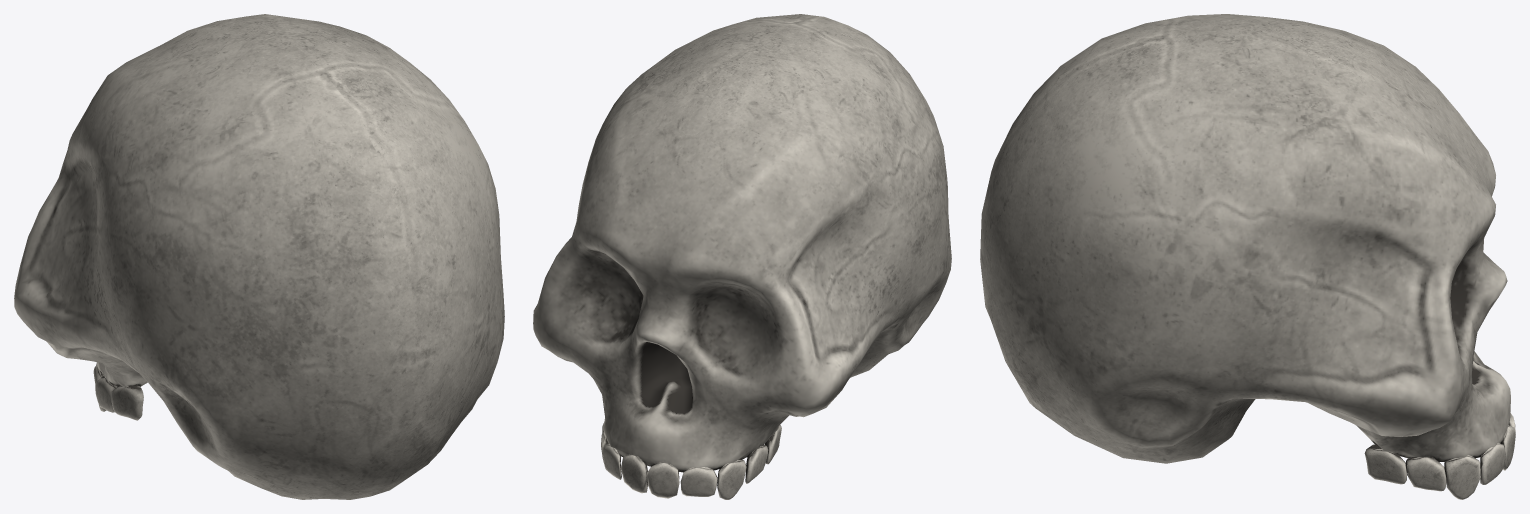
Rendered from skull.fbx.
The picture shows the model from 3 angles, left to right: view 1: azimuth 30°, elevation 25°; view 2: azimuth 150°, elevation 25°; view 3: azimuth 270°, elevation 25°; orthographic projection. The views are drawn at different scales.
Visible parts, largest first — view 1: Retopo_Sphere; view 2: Retopo_Sphere; view 3: Retopo_Sphere.
Boxes of the visible parts, x1,y1,x2,y2 form: Retopo_Sphere: (14, 14, 504, 499); Retopo_Sphere: (533, 14, 951, 499); Retopo_Sphere: (980, 14, 1515, 499).
Bounding box in the file's own units: 2.48 × 2.96 × 3.29.
